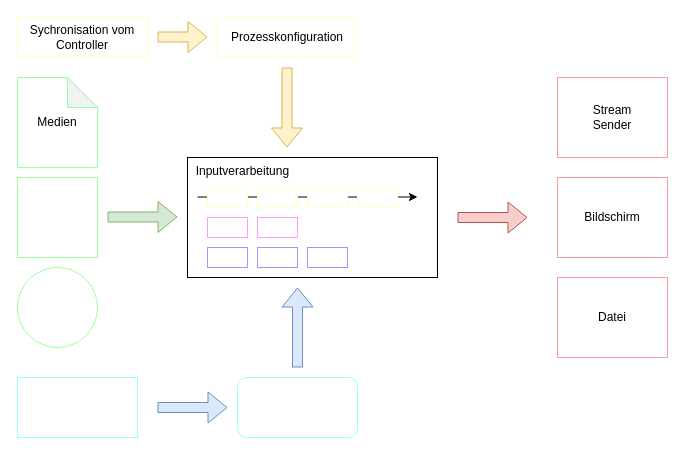
Some shapes in this 685 by 455 pixel diagram are drawn without their labels. The shapes that lost their labels are listed below. From the top down, each one's centre as x and y in pixels, then its label:
the point at 57,217: Stream Receive
the point at 57,307: Generator
the point at 77,407: Sychrtonisation vom Controller
the point at 297,407: Timer
